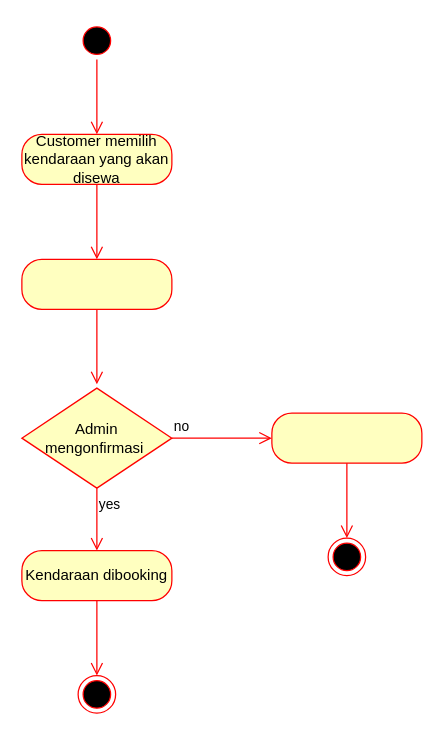
The diagram is 444 pixels wide and 735 high, and some of its shapes have lost their labels. Each missing label, with the box of its shape:
Batal Sewa: (271, 412, 422, 463)
Customer mengajukan penyewaan: (21, 258, 172, 309)
